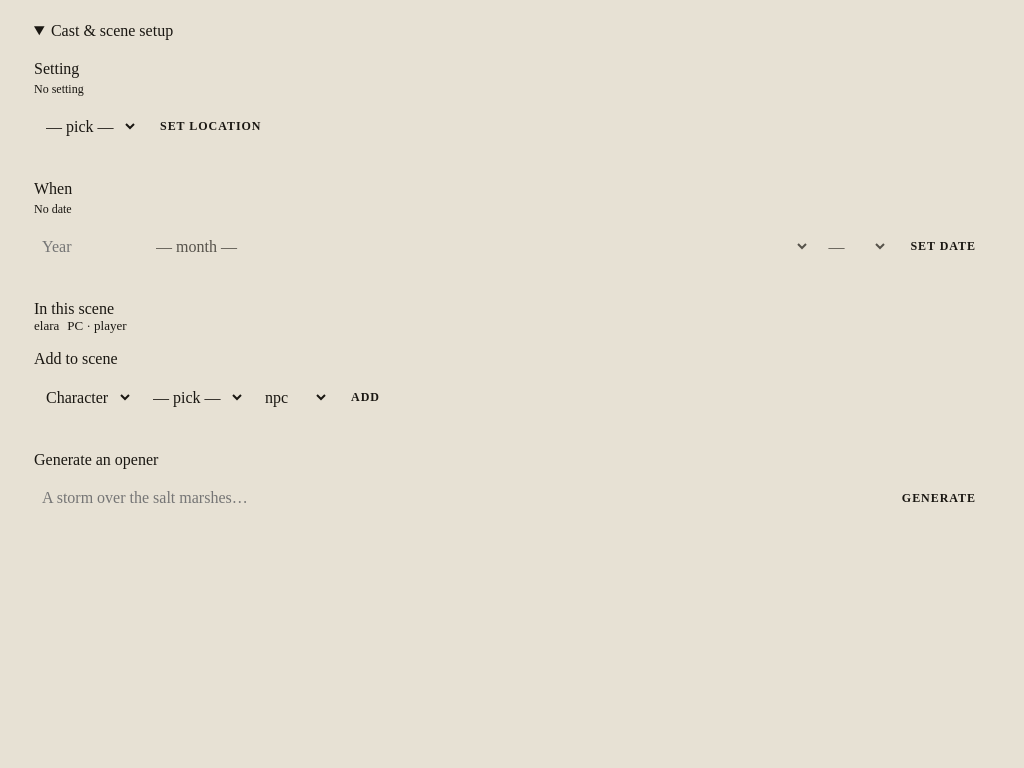
with no greeting character picked, saving is disabled and says why
In the field named "Opener prompt": (457, 498) [34,481,880,515], type "A foggy harbor"
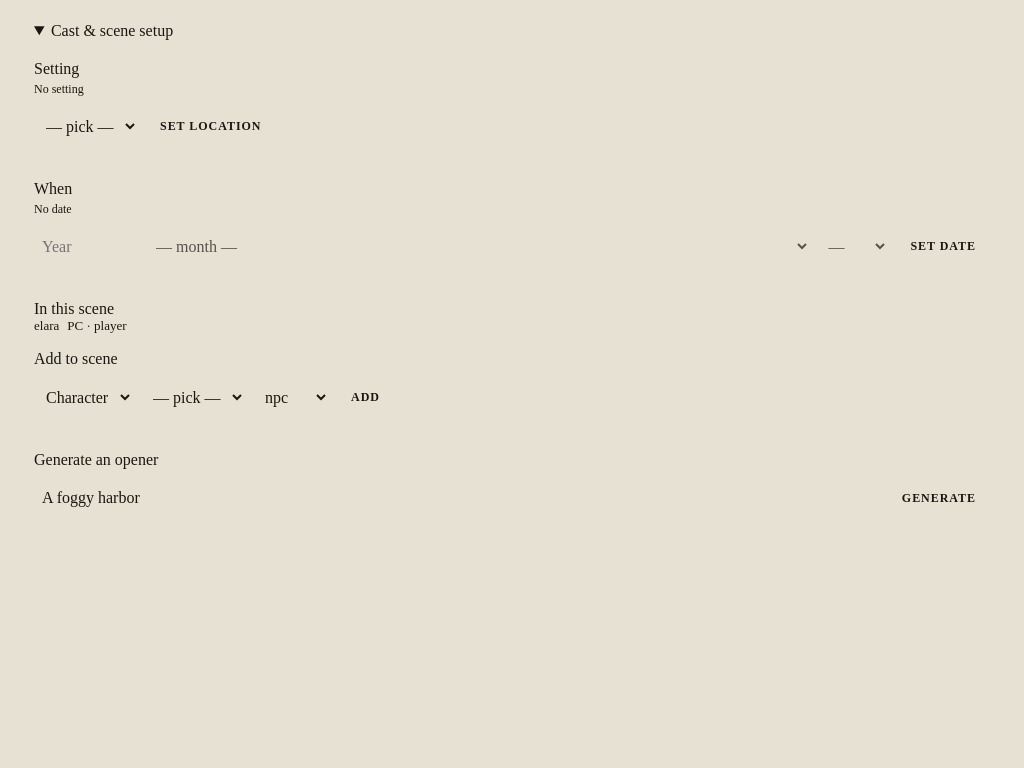
Click the button "Generate": (939, 498) [888,481,990,515]
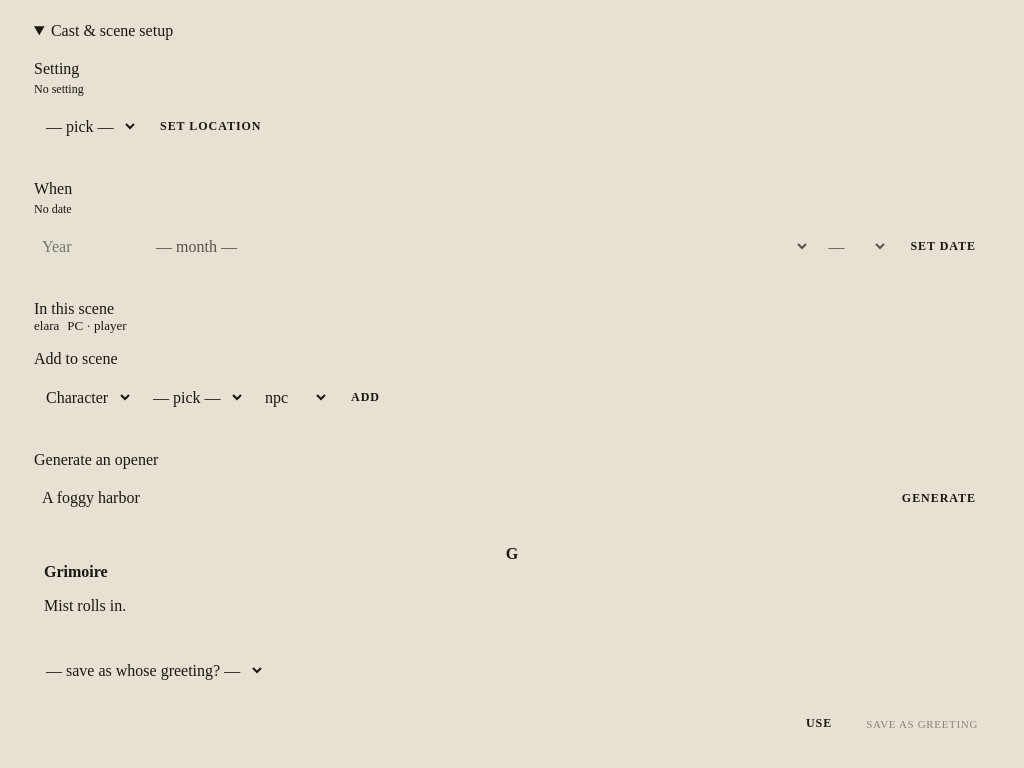
Now the text "Mist rolls in." is shown, box [44,597,126,614]
Now the button "Save as greeting" is disabled, box [854,708,990,739]
